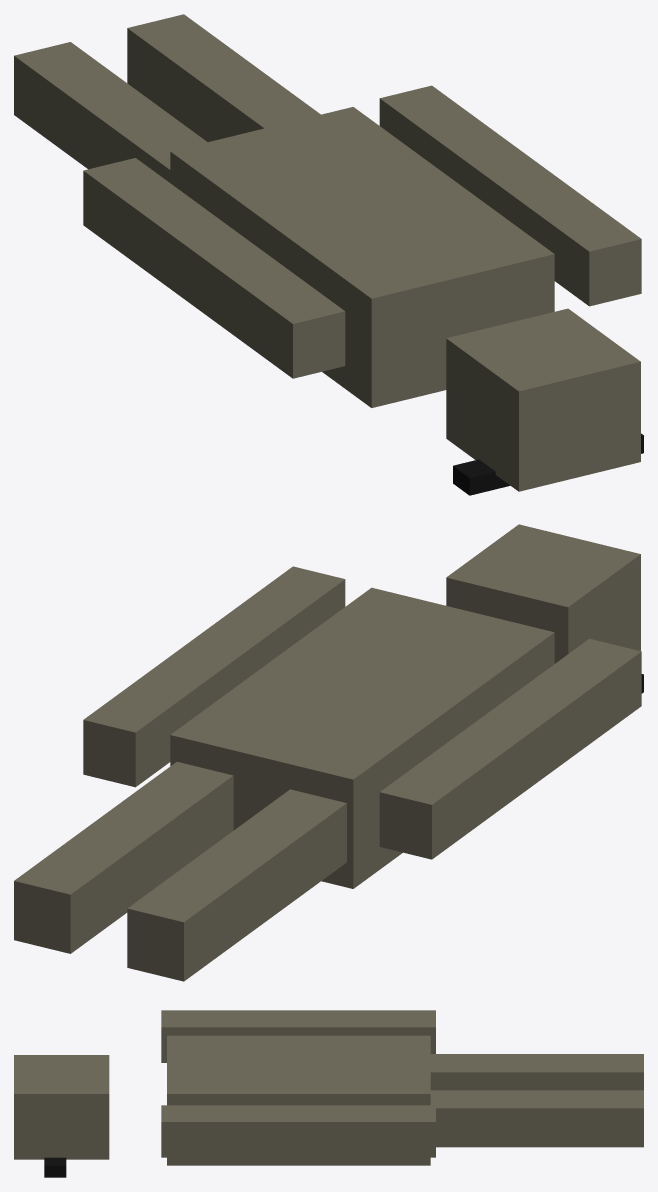
Rendered from enemy_blind_ultimate_proxy.obj.
The picture shows the model from 3 angles, top to bottom: view 1: azimuth 30°, elevation 25°; view 2: azimuth 150°, elevation 25°; view 3: azimuth 270°, elevation 25°; orthographic projection. The views are drawn at different scales.
Visible parts, largest first — view 1: torso, head, arm_l, arm_r, leg_l, leg_r, blindfold; view 2: torso, arm_l, leg_l, leg_r, arm_r, head; view 3: torso, arm_r, leg_r, head, leg_l, arm_l, blindfold.
Part boxes in pixels (bbox=[...]): torso: bbox=[170, 107, 554, 407]; head: bbox=[446, 308, 640, 491]; arm_l: bbox=[83, 158, 345, 378]; arm_r: bbox=[379, 85, 641, 306]; leg_l: bbox=[14, 42, 207, 182]; leg_r: bbox=[127, 14, 320, 141]; blindfold: bbox=[453, 433, 643, 495]; torso: bbox=[170, 587, 554, 888]; arm_l: bbox=[379, 638, 641, 859]; leg_l: bbox=[127, 789, 346, 981]; leg_r: bbox=[14, 762, 233, 953]; arm_r: bbox=[83, 566, 345, 787]; head: bbox=[446, 524, 640, 663]; torso: bbox=[167, 1035, 430, 1165]; arm_r: bbox=[161, 1105, 435, 1157]; leg_r: bbox=[430, 1090, 643, 1147]; head: bbox=[14, 1055, 109, 1159]; leg_l: bbox=[430, 1054, 643, 1090]; arm_l: bbox=[161, 1010, 435, 1062]; blindfold: bbox=[44, 1157, 66, 1177].
Bounding box in the file's own units: 0.72 × 0.2555 × 1.72.
